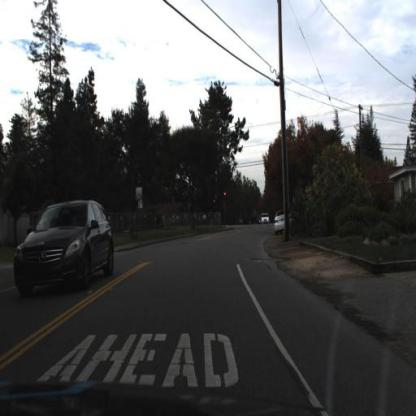car: (12, 197, 116, 303), (270, 199, 295, 240), (257, 203, 271, 226)
